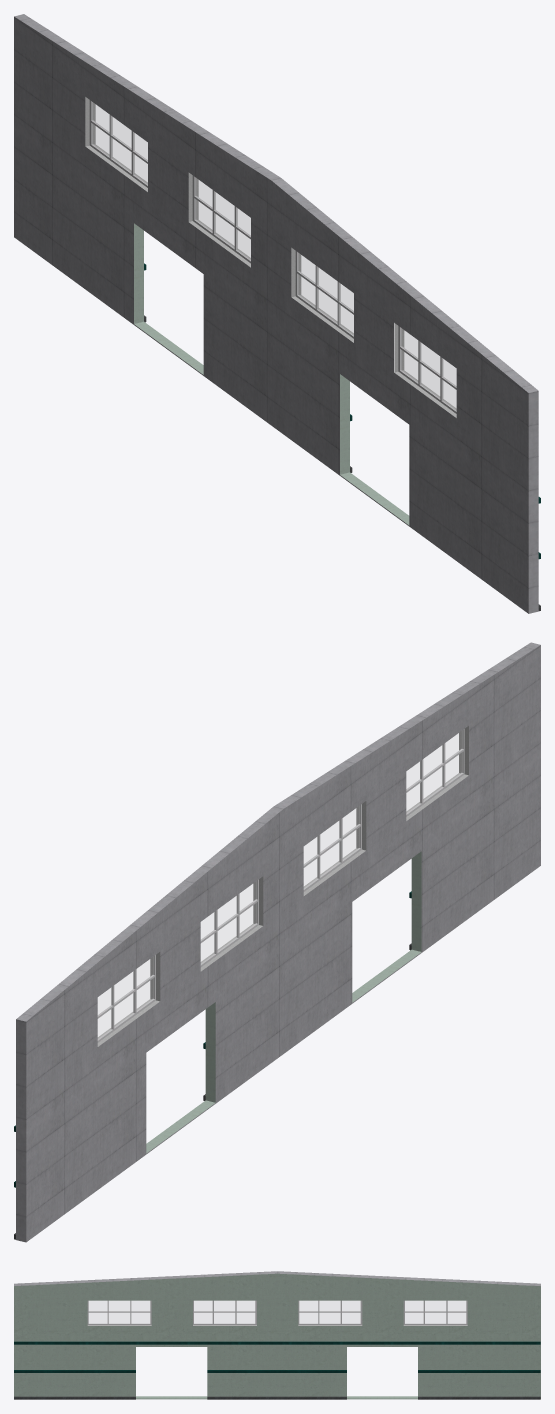
Rendered from WareFront_Walls_WindDoor-transformed.glb.
3 renders of one model, top to bottom at view 1: azimuth 30°, elevation 25°; view 2: azimuth 150°, elevation 25°; view 3: azimuth 270°, elevation 25°, orthographic. The views are drawn at different scales.
Parts seen in each view (by area): view 1: WareFront_Walls_WindDoor, WareFront_Windglasse, WareFront_Wind; view 2: WareFront_Walls_WindDoor, WareFront_Windglasse, WareFront_Wind; view 3: WareFront_Walls_WindDoor, WareFront_Windglasse, Object002, WareFront_Wind, Object001.
Boxes of the visible parts, x1,y1,x2,y2 form: WareFront_Walls_WindDoor: [14, 14, 538, 613]; WareFront_Windglasse: [92, 102, 456, 410]; WareFront_Wind: [89, 100, 456, 413]; WareFront_Walls_WindDoor: [16, 642, 540, 1242]; WareFront_Windglasse: [98, 730, 462, 1039]; WareFront_Wind: [97, 729, 464, 1042]; WareFront_Walls_WindDoor: [14, 1271, 540, 1399]; WareFront_Windglasse: [89, 1301, 465, 1323]; Object002: [14, 1341, 540, 1372]; WareFront_Wind: [87, 1300, 467, 1324]; Object001: [14, 1396, 540, 1399].
Size of the model in its own units: 0.5157 by 9.72 by 37.
Materials: 7 (6 with a texture image).
